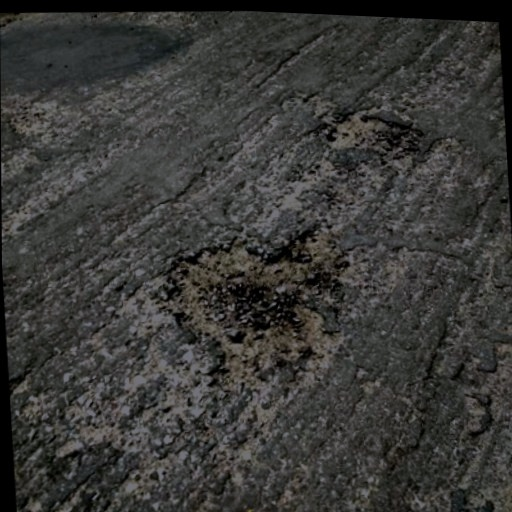pothole: (164, 216, 352, 393), (323, 100, 429, 163)
